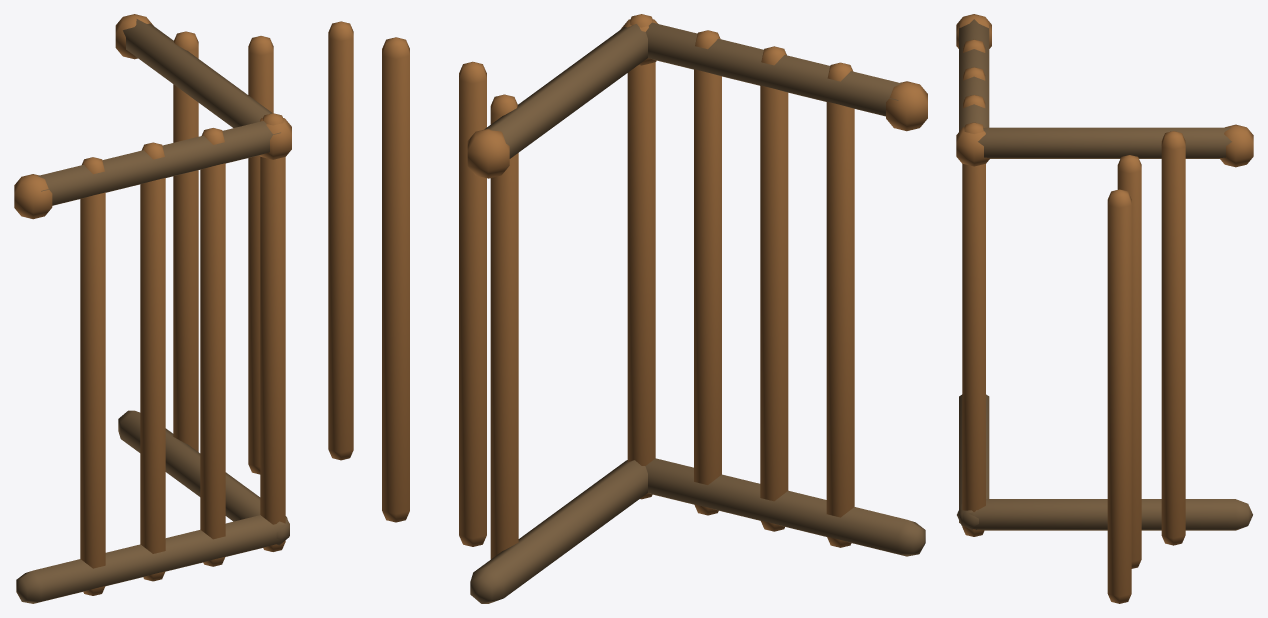
File: prop_cageof_71b0.glb
3 views of the same model, side by side, from view 1: azimuth 30°, elevation 25°; view 2: azimuth 150°, elevation 25°; view 3: azimuth 270°, elevation 25° (orthographic). The views are drawn at different scales.
Parts seen in each view (by area): view 1: prop_cageof_71b0; view 2: prop_cageof_71b0; view 3: prop_cageof_71b0.
Part boxes in pixels (x1,y1,x2,y2): prop_cageof_71b0: (14, 14, 353, 603); prop_cageof_71b0: (382, 14, 927, 603); prop_cageof_71b0: (956, 14, 1253, 603).
Bounding box in the file's own units: 1.38 × 1.39 × 0.9045.
Materials: 1 (1 with a texture image).
